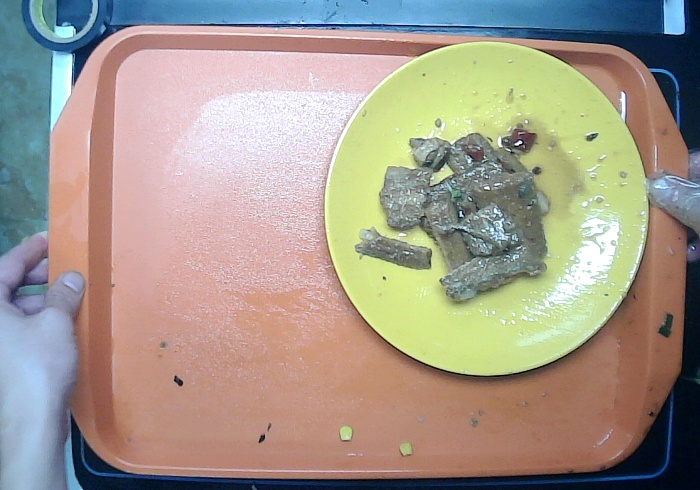HZYJPL-Huang_Se_Yuan_Pan: (323, 38, 651, 378)
